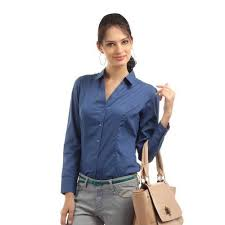F_belt: (73, 171, 140, 187)
F_shirt: (54, 70, 171, 169)
